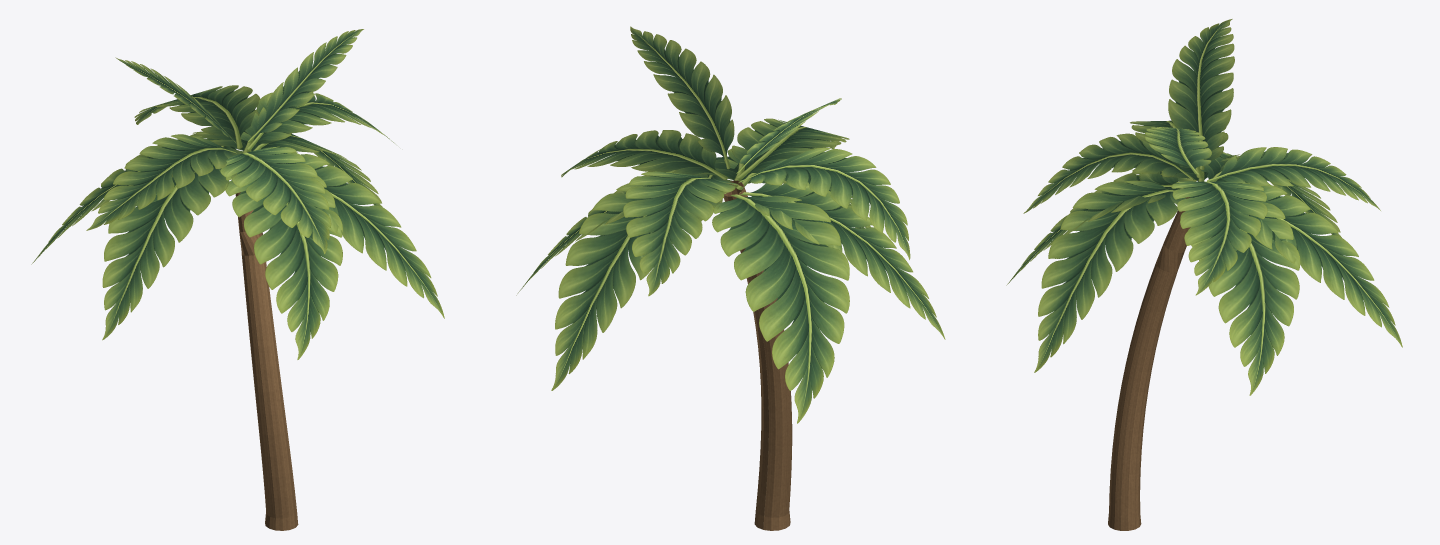
Rendered from palm_round_v2.glb.
3 renders of one model, left to right at view 1: azimuth 30°, elevation 25°; view 2: azimuth 150°, elevation 25°; view 3: azimuth 270°, elevation 25°, orthographic. The views are drawn at different scales.
Parts seen in each view (by area): view 1: palm_round_v2; view 2: palm_round_v2; view 3: palm_round_v2.
Part boxes in pixels (box(x1,y1,x2,y2)): palm_round_v2: box(31, 29, 444, 530); palm_round_v2: box(516, 26, 945, 530); palm_round_v2: box(1006, 19, 1402, 530).
Bounding box in the file's own units: 3.83 × 4.47 × 3.91.
Materials: 2 (2 with a texture image).
